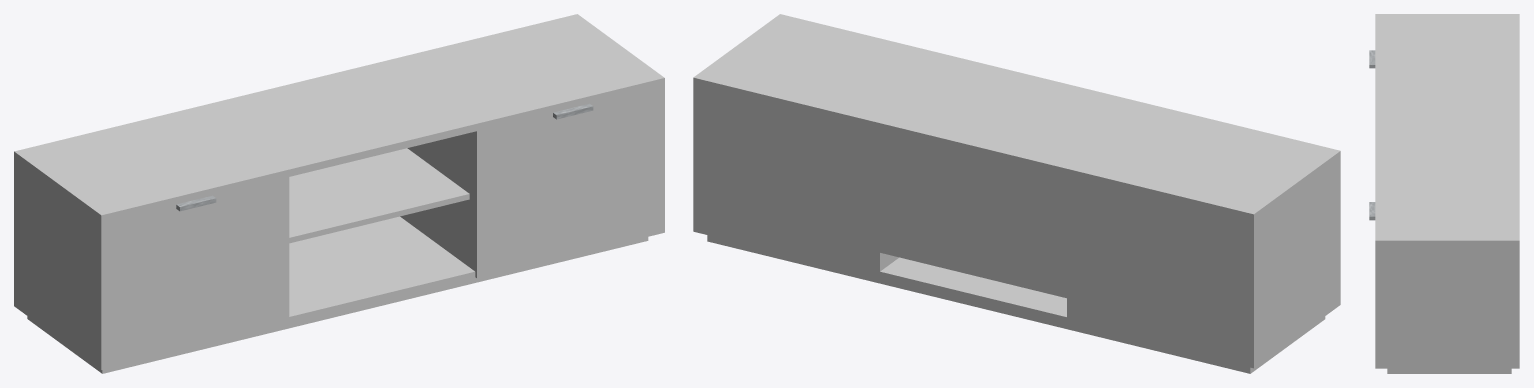
Rendered from TV_table.FBX.
3 views of the same model, side by side, from view 1: azimuth 30°, elevation 25°; view 2: azimuth 150°, elevation 25°; view 3: azimuth 270°, elevation 25° (orthographic). The views are drawn at different scales.
Parts seen in each view (by area): view 1: TV_table; view 2: TV_table; view 3: TV_table.
Boxes of the visible parts, <box> form: TV_table: <box>14,14,664,373</box>; TV_table: <box>693,14,1340,373</box>; TV_table: <box>1369,14,1519,373</box>.
Bounding box in the file's own units: 160 × 45.03 × 44.74.
